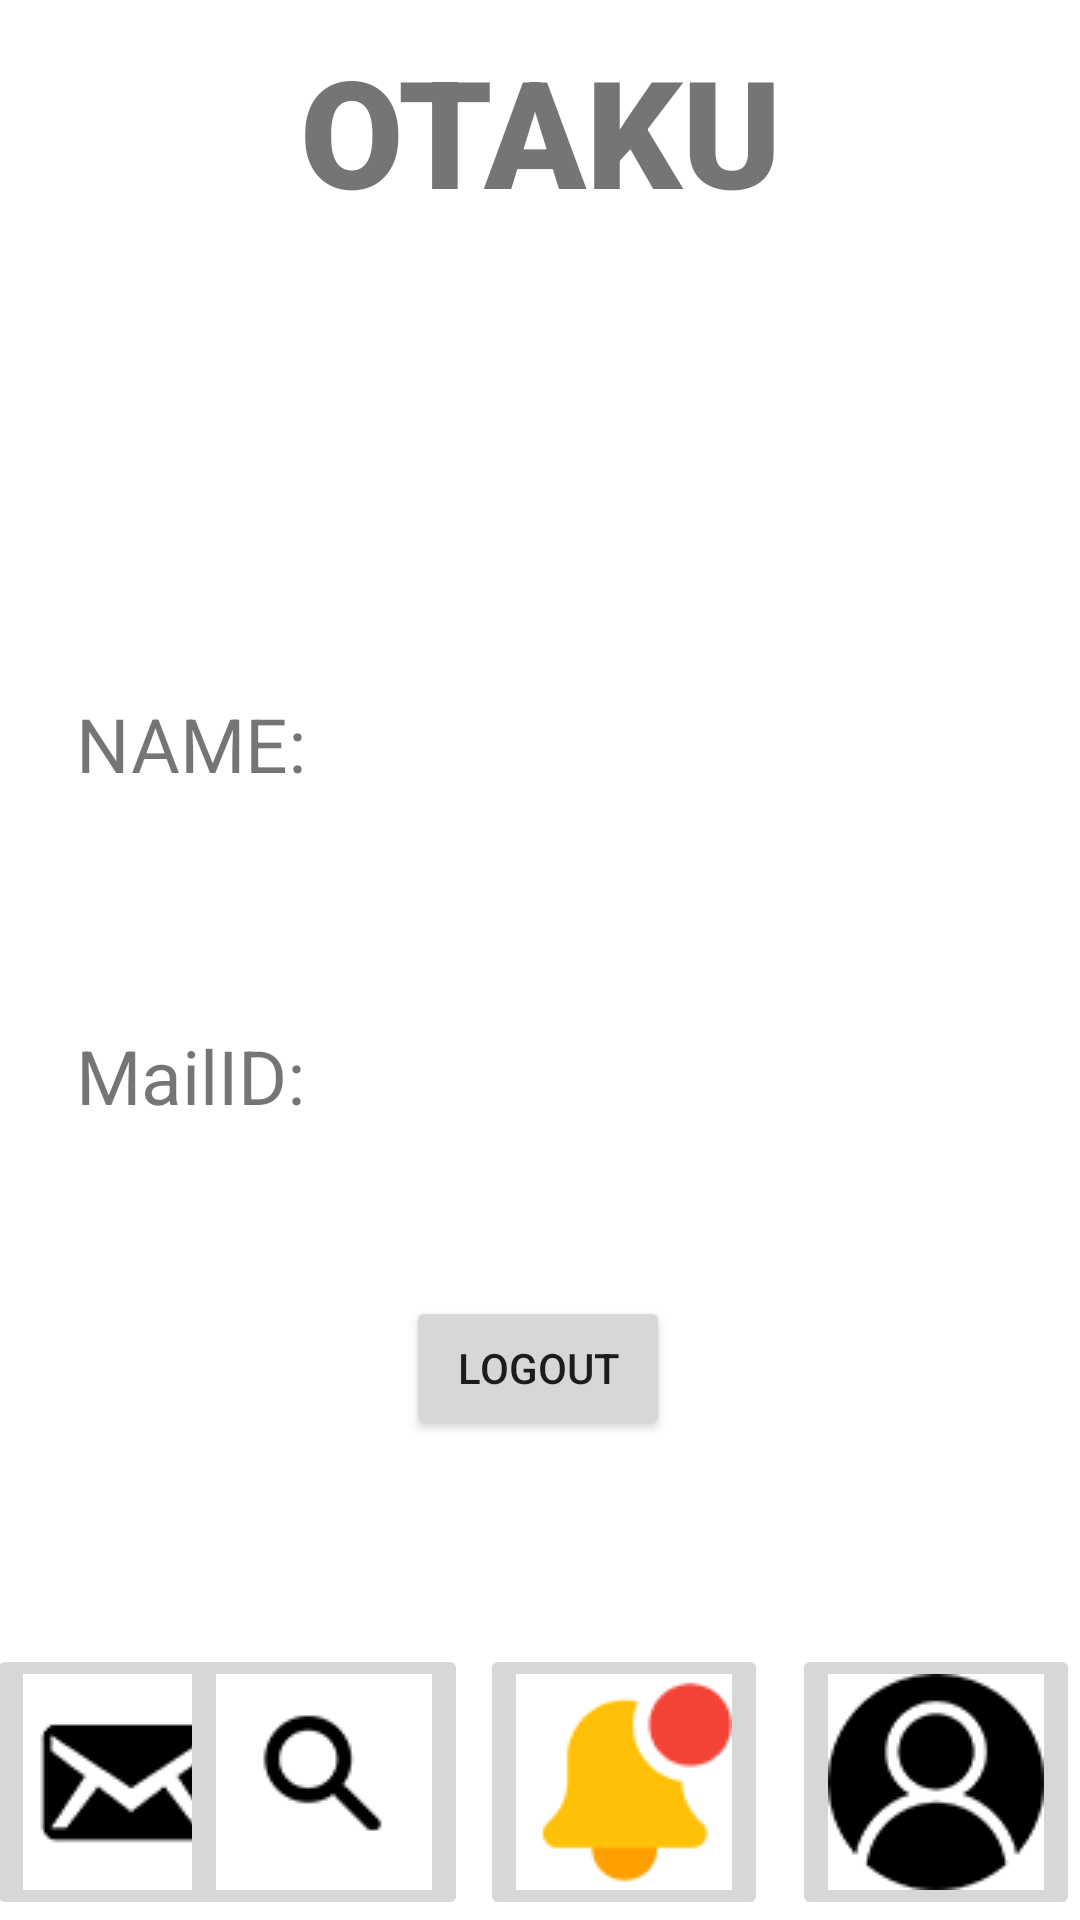

Icon click points for this 1080w x 1920h phone screenshot, format (x,y):
inbox: (137,1782)
notification: (624,1782)
profile: (936,1782)
search: (318,1782)
